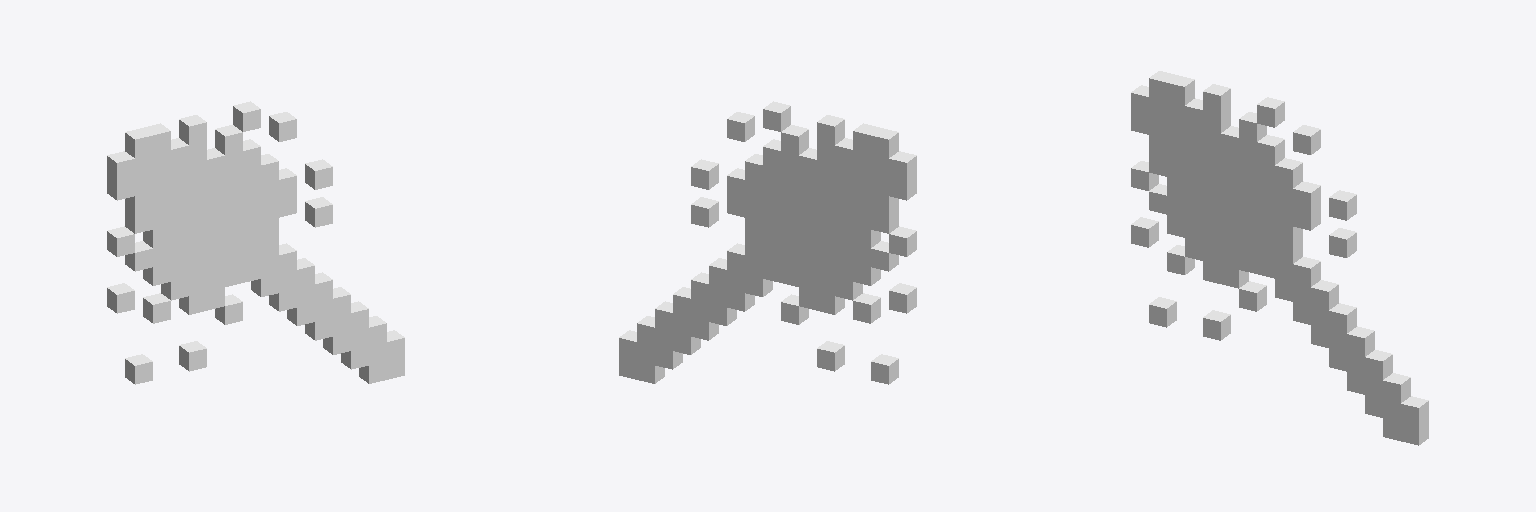
The model's file is ice_staff.obj.
3 renders of one model, left to right at view 1: azimuth 30°, elevation 25°; view 2: azimuth 150°, elevation 25°; view 3: azimuth 330°, elevation 25°, orthographic.
Bounding box in the file's own units: 16 × 16 × 1.